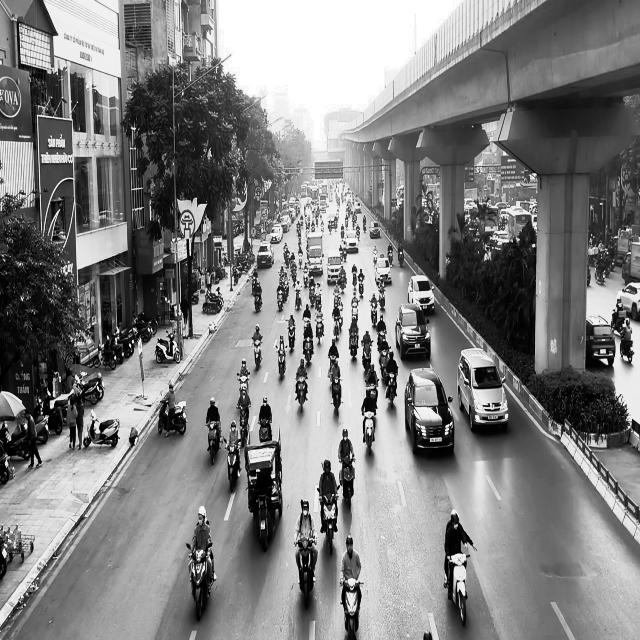car: (404, 367, 455, 456), (457, 347, 509, 432), (395, 302, 431, 360), (586, 314, 616, 366), (407, 274, 435, 315), (616, 281, 640, 320)
motorbike: (444, 545, 476, 626), (186, 542, 216, 621), (294, 535, 317, 609), (317, 485, 340, 555), (340, 578, 363, 637), (83, 411, 120, 447), (157, 398, 187, 437), (223, 437, 242, 492), (338, 457, 356, 509), (205, 419, 221, 465), (362, 409, 376, 456), (328, 373, 342, 416), (236, 405, 250, 447), (295, 375, 308, 412), (251, 336, 263, 370), (620, 336, 634, 363), (276, 346, 286, 381), (237, 371, 250, 396), (286, 320, 296, 350)
